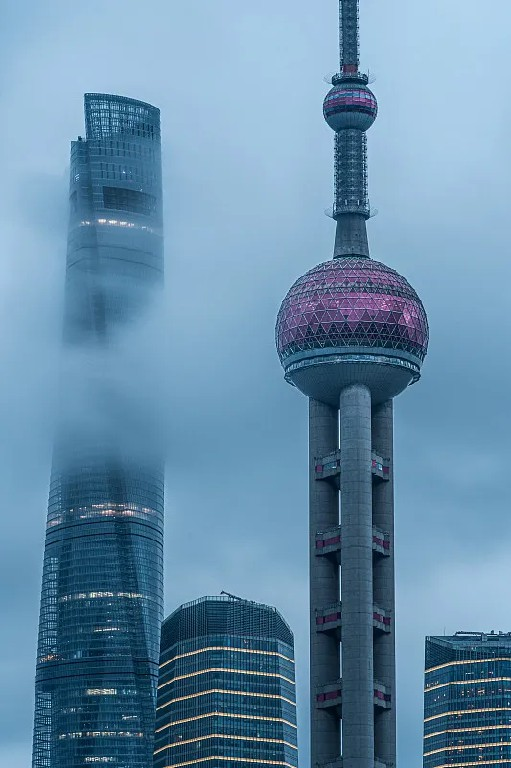Oriental: (276, 1, 429, 767)
